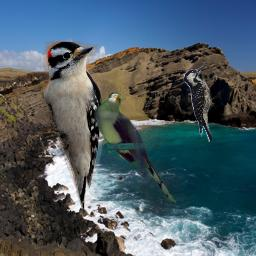Cuckoo: (94, 92, 181, 204)
Woodpecker: (40, 41, 102, 214), (183, 65, 224, 142)
